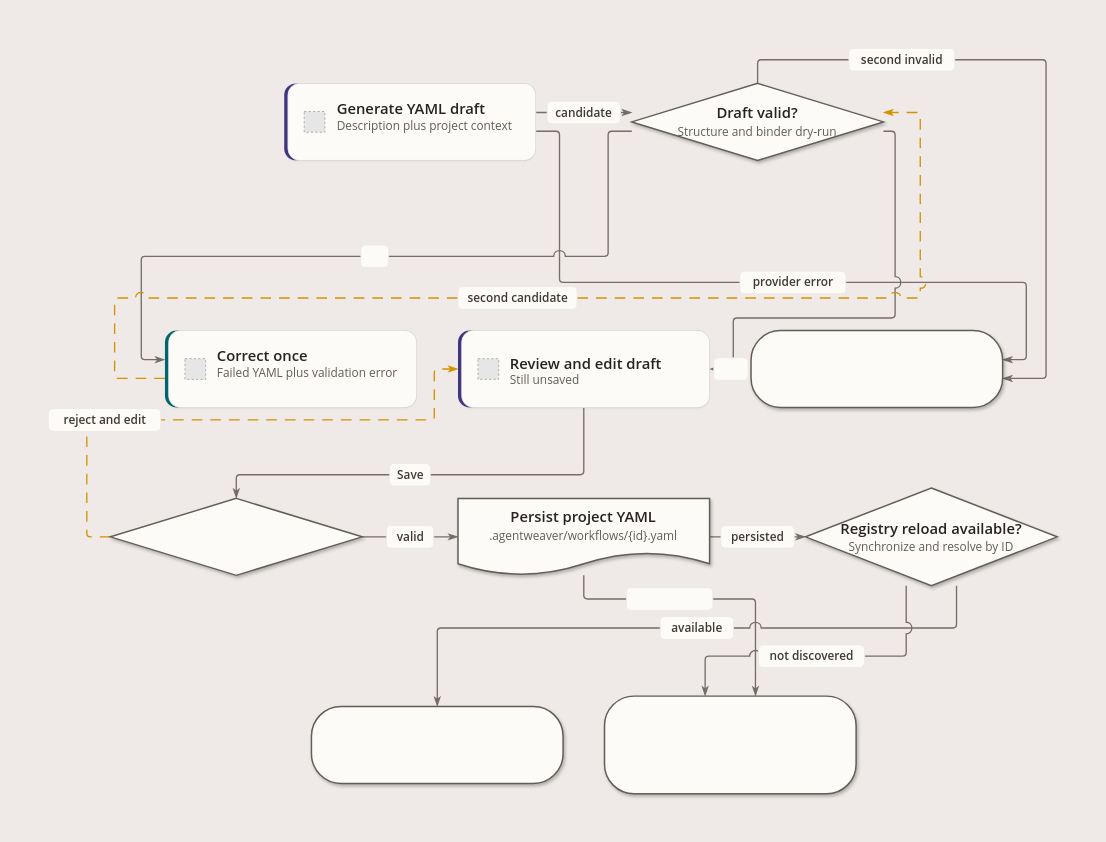
This 1106x842 diagram has some shape labels left out. Grey dashed boxes stand in for pictures. Here are the shapes that lost their labels. From the top down, the centre of each, then its label:
the point at 374,256: no
the point at 730,368: yes
the point at 877,369: Generation failed No workflow file was saved
the point at 236,537: Save valid? Access, ID, path, syntax, and binding
the point at 669,598: write error
the point at 437,745: Available for selection Save completed successfully
the point at 730,745: Persistence or activation failed Post-write state may require inspection
